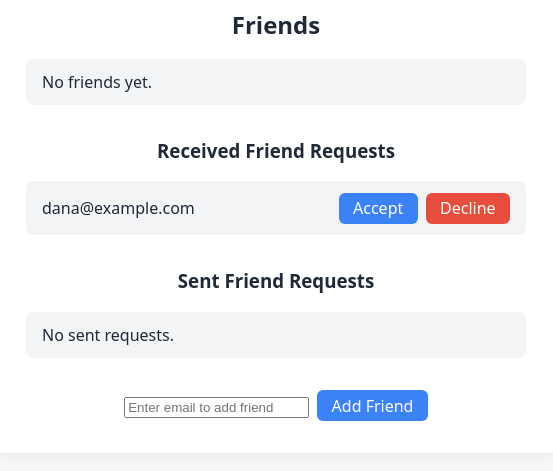
Test: Friends Page › accepting a request posts to API and refreshes lists
Expected: the text "dana@example.com" is shown, x1=42 y1=196 x2=195 y2=220
// Click Accept
Click the button "Accept" at (378,208), box x1=339 y1=193 x2=418 y2=224
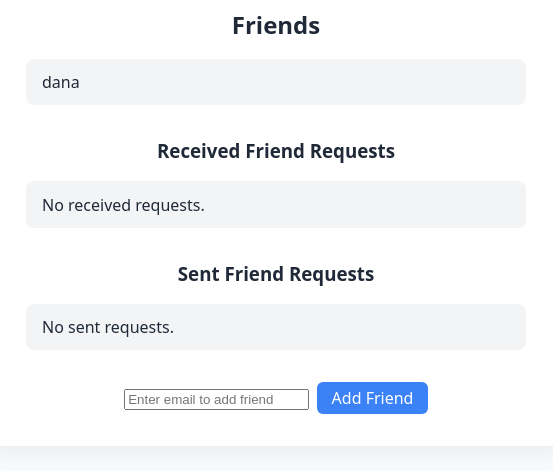
Expected: the text "dana" is shown, x1=42 y1=70 x2=80 y2=94
Now the text "dana@example.com" is gone
